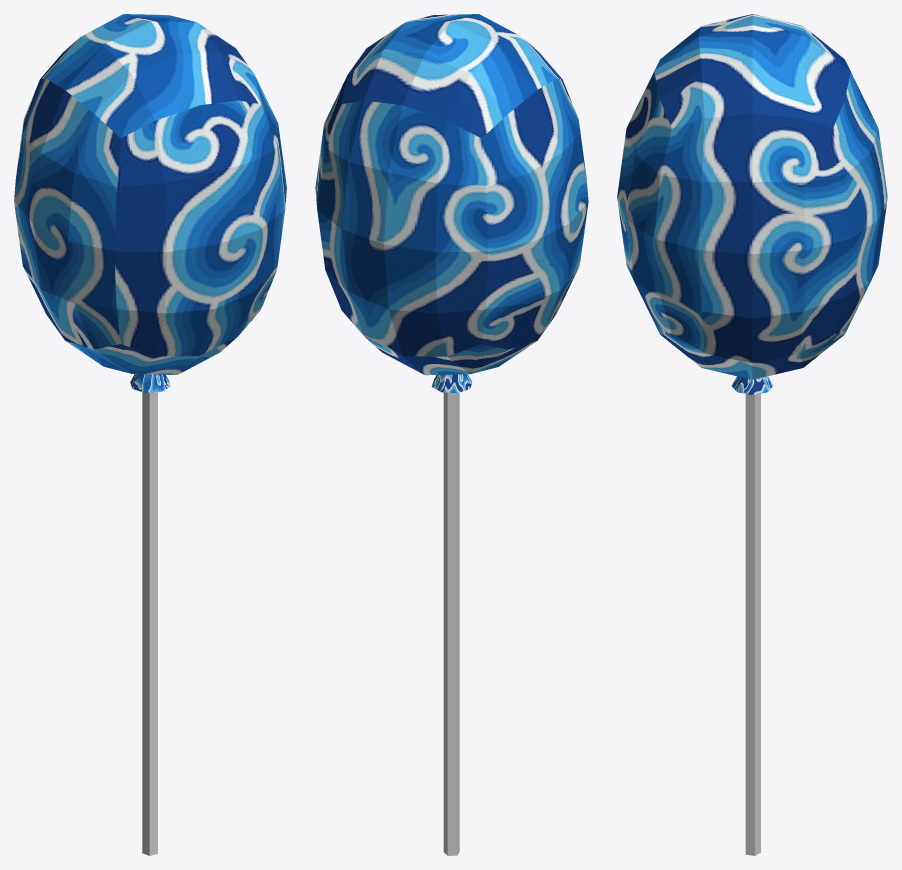
Rendered from Balon Batik Biru.fbx.
The picture shows the model from 3 angles, left to right: view 1: azimuth 30°, elevation 25°; view 2: azimuth 150°, elevation 25°; view 3: azimuth 270°, elevation 25°; orthographic projection.
Parts seen in each view (by area): view 1: Cylinder.001; view 2: Cylinder.001; view 3: Cylinder.001.
Part boxes in pixels (x1,y1,x2,y2): Cylinder.001: (14, 14, 286, 855); Cylinder.001: (315, 14, 588, 855); Cylinder.001: (617, 14, 887, 855).
Size of the model in its own units: 41.45 by 140 by 41.45.
2 materials, 1 textured.
